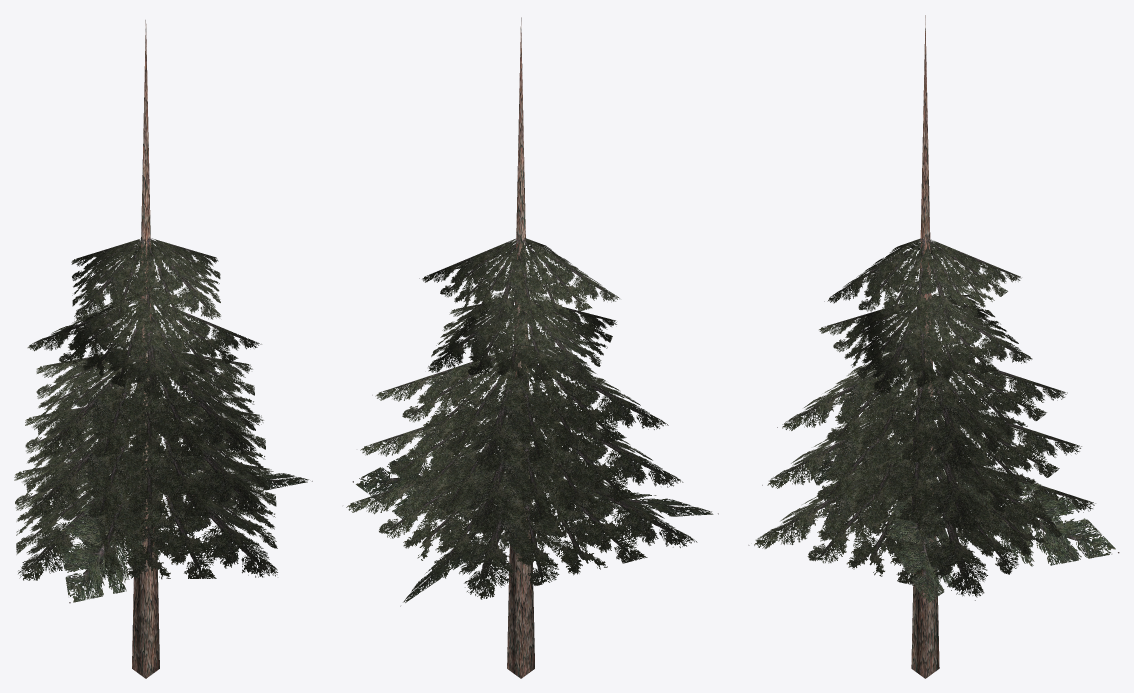
The model's file is conf_mtns_pine_broken_l2.fbx.
3 views of the same model, side by side, from view 1: azimuth 30°, elevation 25°; view 2: azimuth 150°, elevation 25°; view 3: azimuth 270°, elevation 25° (orthographic).
Visible parts, largest first — view 1: mesh_node; view 2: mesh_node; view 3: mesh_node.
Part boxes in pixels (box(x1,y1,x2,y2)): mesh_node: box(14, 20, 312, 678); mesh_node: box(346, 17, 718, 678); mesh_node: box(748, 15, 1119, 678).
Bounding box in the file's own units: 10.03 × 19.57 × 10.02.
